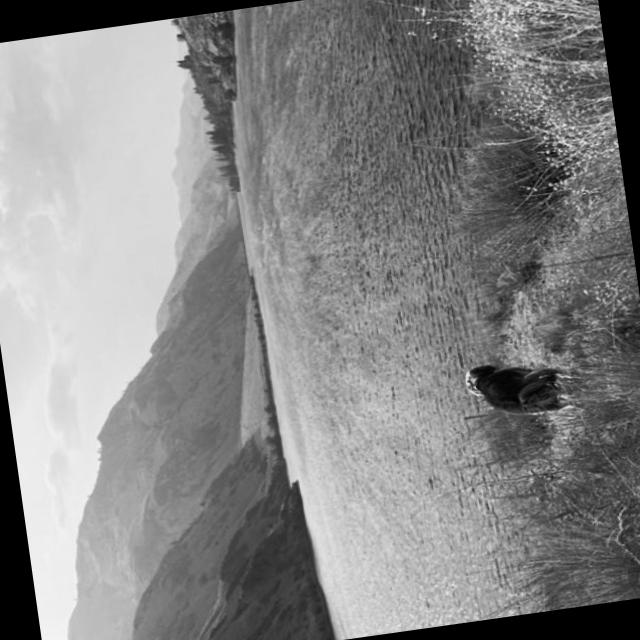squatting: (460, 348, 586, 428)
